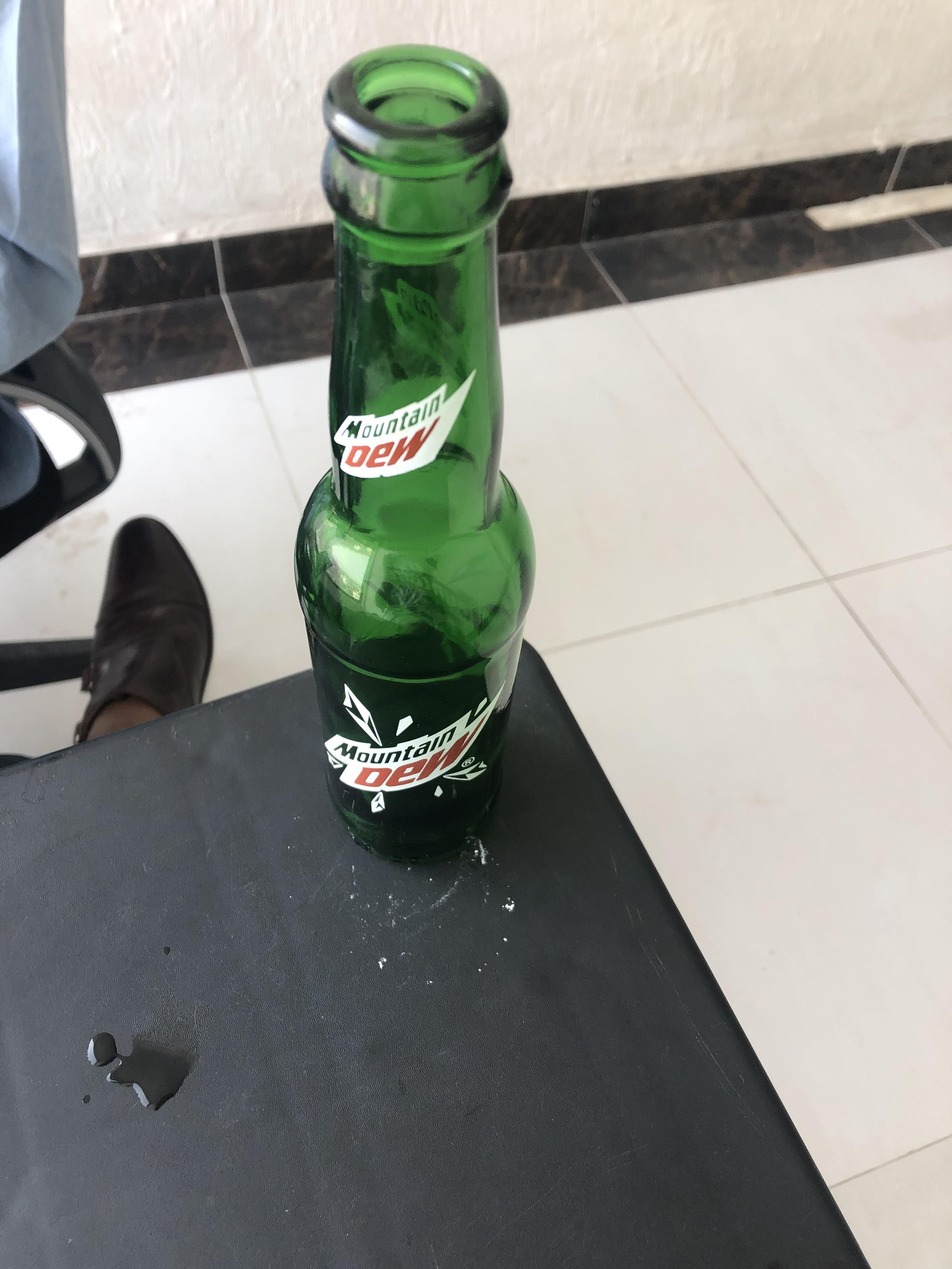bottle-glass: (288, 36, 543, 865)
